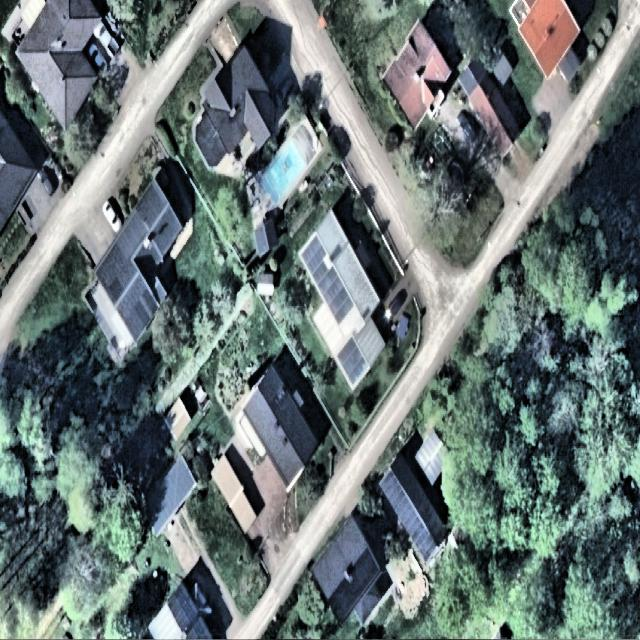roof_pv: (320, 269, 354, 325), (302, 239, 326, 284)
